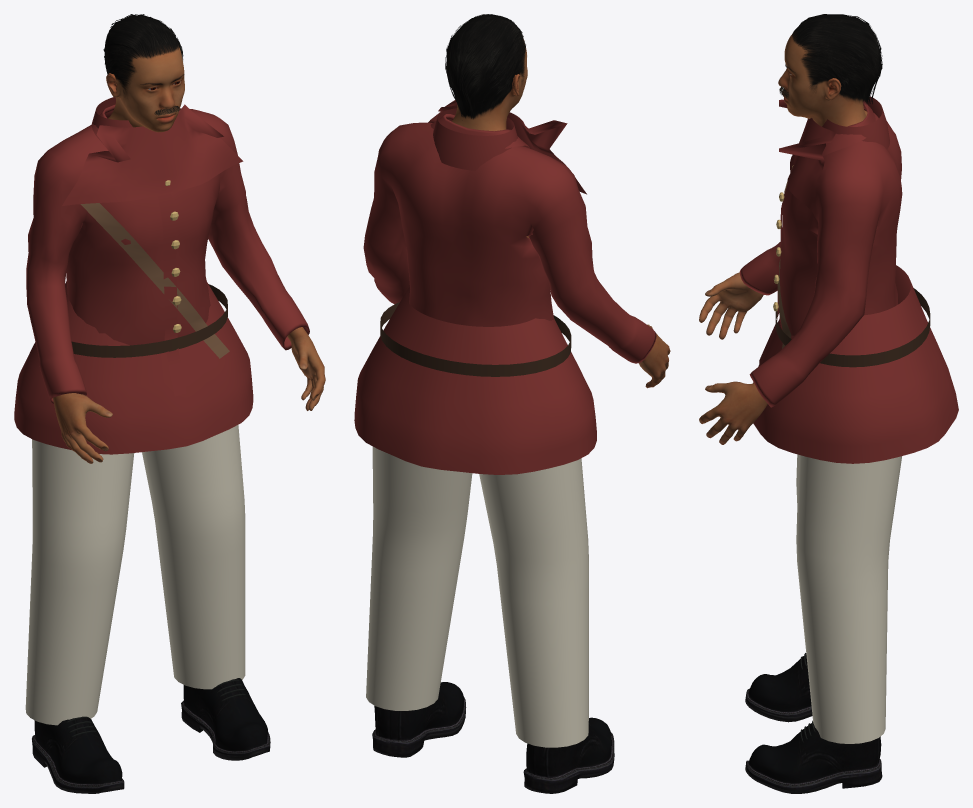
Rendered from arjun_brother_preview.glb.
3 renders of one model, left to right at view 1: azimuth 30°, elevation 25°; view 2: azimuth 150°, elevation 25°; view 3: azimuth 270°, elevation 25°, orthographic.
Parts seen in each view (by area): view 1: Dev_fitted_uniform_upper_preview, right trouser_preview, left trouser_preview, Coat lower skirts_preview, Dev_fitted_boots_preview, Dev tailored front neckline_preview, Arjun_brother_independent_MakeHuman_body_preview, Brother_short_hair_preview, Crossbody leather webbing_preview, Coat front placket_preview, Coat waist seam_preview; view 2: Dev_fitted_uniform_upper_preview, Coat lower skirts_preview, right trouser_preview, left trouser_preview, Dev_fitted_boots_preview, Brother_short_hair_preview, Coat waist seam_preview, Uniform standing collar_preview, Arjun_brother_independent_MakeHuman_body_preview, Dev tailored front neckline_preview; view 3: Dev_fitted_uniform_upper_preview, left trouser_preview, Coat lower skirts_preview, Dev_fitted_boots_preview, Arjun_brother_independent_MakeHuman_body_preview, Brother_short_hair_preview, Dev tailored front neckline_preview, Coat waist seam_preview, Uniform standing collar_preview.
Part boxes in pixels (x1,y1,x2,y2): Dev_fitted_uniform_upper_preview: (26, 104, 309, 403); right trouser_preview: (25, 439, 134, 725); left trouser_preview: (142, 425, 245, 689); Coat lower skirts_preview: (14, 281, 253, 454); Dev_fitted_boots_preview: (32, 678, 270, 793); Dev tailored front neckline_preview: (62, 104, 243, 205); Arjun_brother_independent_MakeHuman_body_preview: (52, 46, 325, 463); Brother_short_hair_preview: (103, 14, 183, 96); Crossbody leather webbing_preview: (80, 203, 229, 358); Coat front placket_preview: (157, 192, 186, 396); Coat waist seam_preview: (71, 284, 227, 357); Dev_fitted_uniform_upper_preview: (363, 114, 656, 363); Coat lower skirts_preview: (354, 287, 596, 474); right trouser_preview: (479, 458, 588, 747); left trouser_preview: (366, 446, 472, 710); Dev_fitted_boots_preview: (372, 682, 614, 793); Brother_short_hair_preview: (445, 14, 525, 119); Coat waist seam_preview: (380, 302, 571, 376); Uniform standing collar_preview: (433, 108, 517, 170); Arjun_brother_independent_MakeHuman_body_preview: (452, 39, 670, 388); Dev tailored front neckline_preview: (428, 100, 586, 194); Dev_fitted_uniform_upper_preview: (739, 101, 902, 407); left trouser_preview: (796, 455, 901, 743); Coat lower skirts_preview: (753, 265, 958, 463); Dev_fitted_boots_preview: (745, 653, 882, 793); Arjun_brother_independent_MakeHuman_body_preview: (699, 34, 867, 444); Brother_short_hair_preview: (792, 14, 882, 104); Dev tailored front neckline_preview: (779, 99, 835, 217); Coat waist seam_preview: (775, 288, 930, 367); Uniform standing collar_preview: (822, 96, 889, 149).
Bounding box in the file's own units: 0.6411 × 1.73 × 0.5577.
12 materials, 6 textured.
